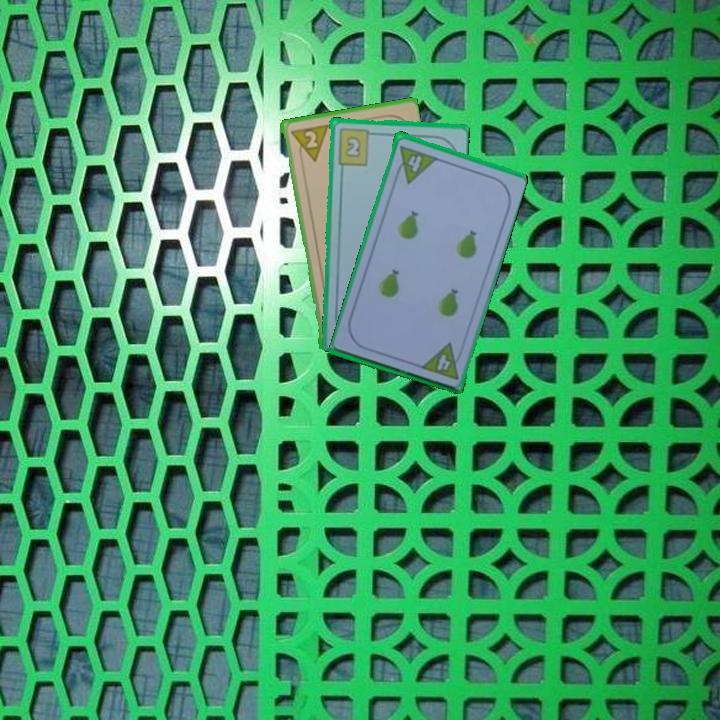2b: (334, 125, 377, 167)
2p: (286, 121, 330, 166)
4p: (417, 338, 467, 382), (391, 141, 439, 185)
